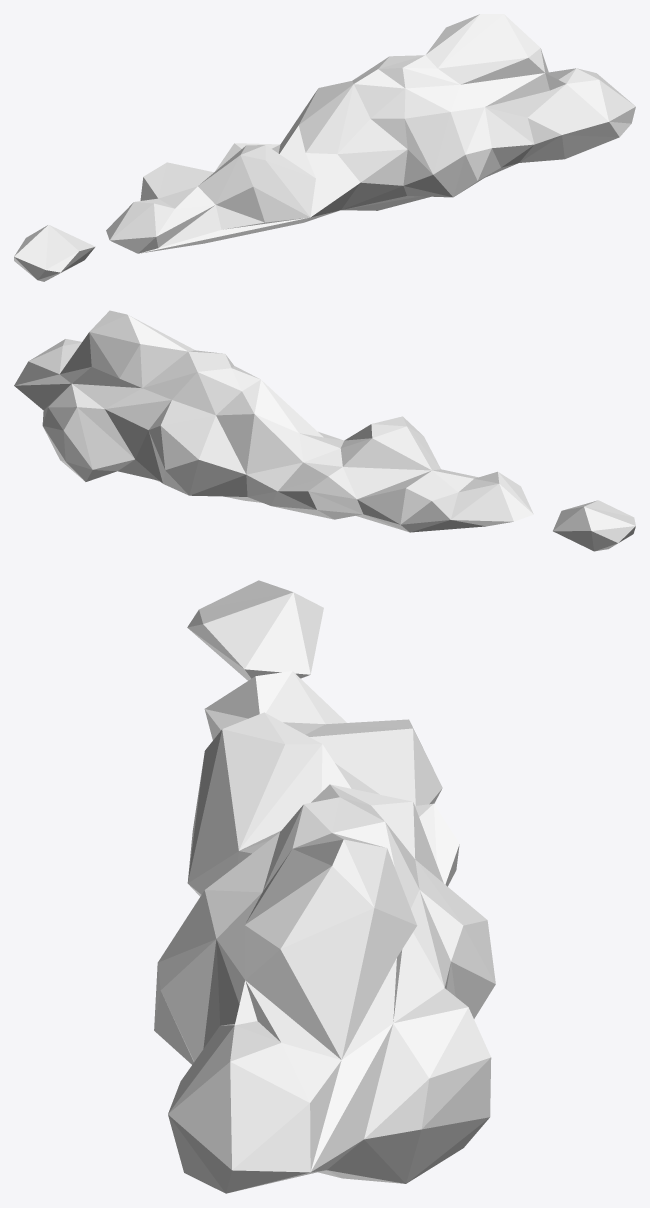
File: SM_Env_Cloud_01.glb
3 views of the same model, one above another, from view 1: azimuth 30°, elevation 25°; view 2: azimuth 150°, elevation 25°; view 3: azimuth 270°, elevation 25° (orthographic). The views are drawn at different scales.
Visible parts, largest first — view 1: SM_Env_Cloud_01_part00; view 2: SM_Env_Cloud_01_part00; view 3: SM_Env_Cloud_01_part00.
Boxes of the visible parts, x1,y1,x2,y2 form: SM_Env_Cloud_01_part00: [14, 14, 635, 281]; SM_Env_Cloud_01_part00: [14, 310, 635, 551]; SM_Env_Cloud_01_part00: [154, 580, 495, 1193].
Size of the model in its own units: 66.78 by 16.51 by 16.08.
1 material, 1 textured.
